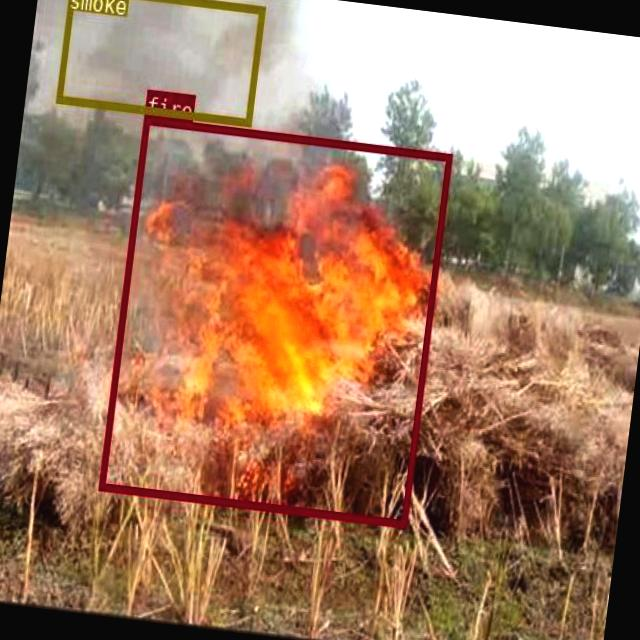fire: (97, 115, 451, 526)
smoke: (55, 0, 263, 125)
